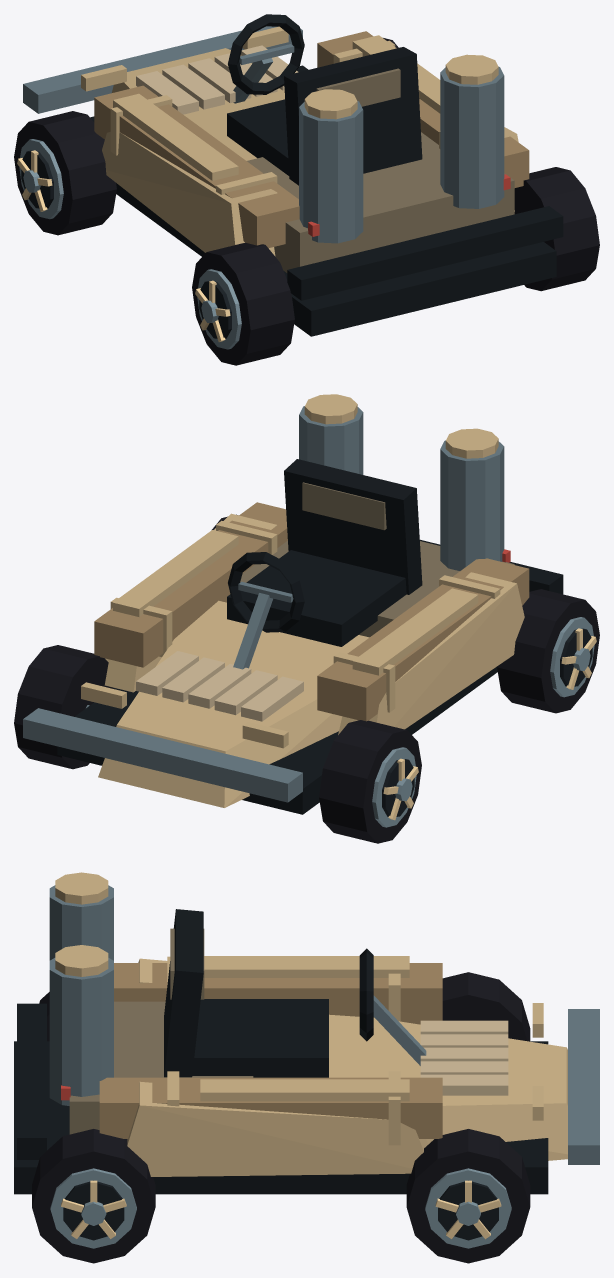
The model's file is kart.glb.
3 renders of one model, top to bottom at view 1: azimuth 30°, elevation 25°; view 2: azimuth 150°, elevation 25°; view 3: azimuth 270°, elevation 25°, orthographic. The views are drawn at different scales.
Parts seen in each view (by area): view 1: chassis, wheel-rear-left, wheel-front-left, wheel-rear-right; view 2: chassis, wheel-front-left, wheel-rear-left, wheel-front-right; view 3: chassis, wheel-front-right, wheel-rear-right, wheel-front-left.
Boxes of the visible parts, bbox=[...] form: chassis: bbox=[23, 14, 563, 336]; wheel-rear-left: bbox=[192, 242, 294, 365]; wheel-front-left: bbox=[14, 111, 116, 235]; wheel-rear-right: bbox=[514, 167, 599, 291]; chassis: bbox=[23, 394, 563, 814]; wheel-front-left: bbox=[319, 720, 421, 843]; wheel-rear-left: bbox=[497, 589, 599, 713]; wheel-front-right: bbox=[14, 645, 113, 769]; chassis: bbox=[14, 872, 599, 1194]; wheel-front-right: bbox=[406, 1129, 530, 1263]; wheel-rear-right: bbox=[32, 1129, 155, 1263]; wheel-front-left: bbox=[442, 972, 530, 1041].
Bounding box in the file's own units: 2.3 × 1.4 × 2.94.
